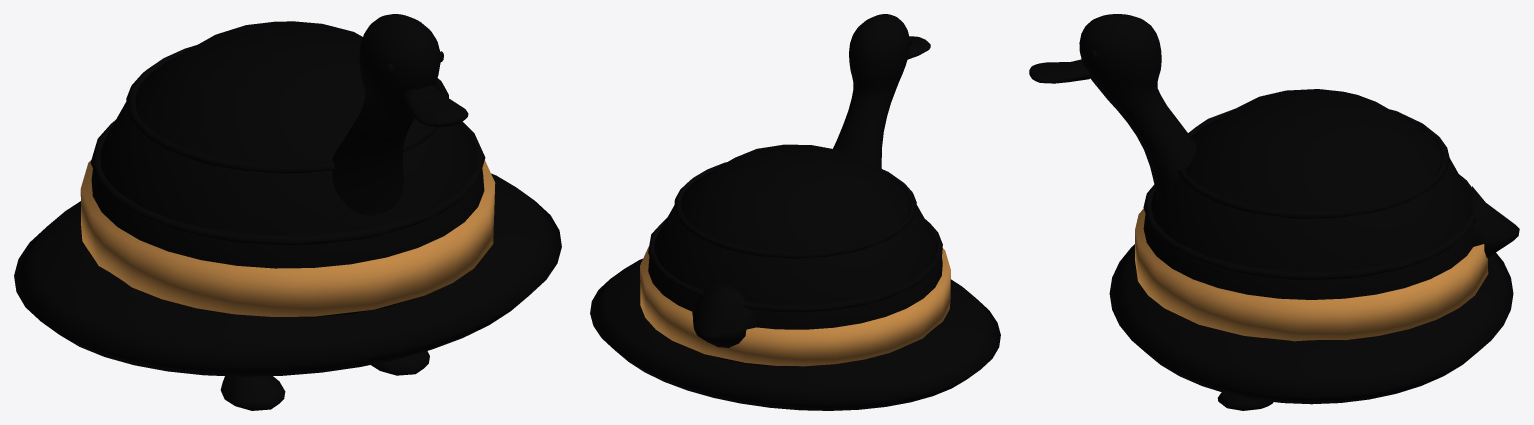
Rendered from duck-farmer.fbx.
The picture shows the model from 3 angles, left to right: view 1: azimuth 30°, elevation 25°; view 2: azimuth 150°, elevation 25°; view 3: azimuth 270°, elevation 25°; orthographic projection. The views are drawn at different scales.
Parts seen in each view (by area): view 1: duck-farmer; view 2: duck-farmer; view 3: duck-farmer.
Boxes of the visible parts, x1,y1,x2,y2 form: duck-farmer: [14, 14, 561, 410]; duck-farmer: [590, 14, 1000, 410]; duck-farmer: [1029, 14, 1519, 410].
Size of the model in its own units: 99.27 by 80.44 by 100.
